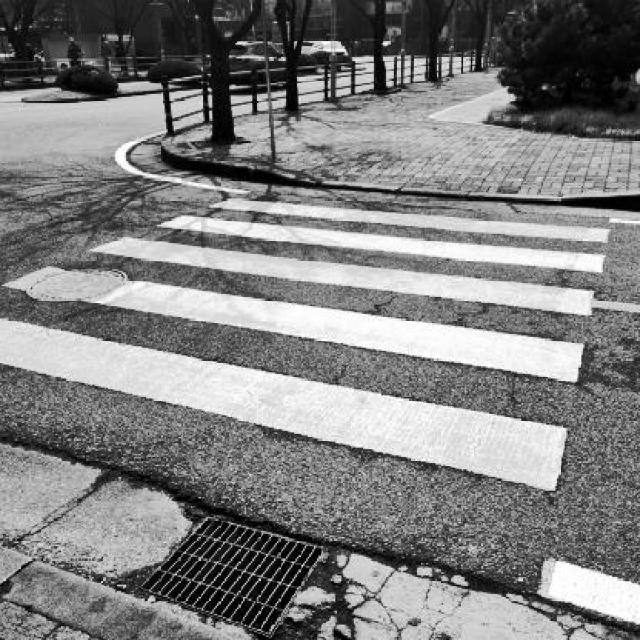intact_crosswalk: (0, 194, 613, 501)
